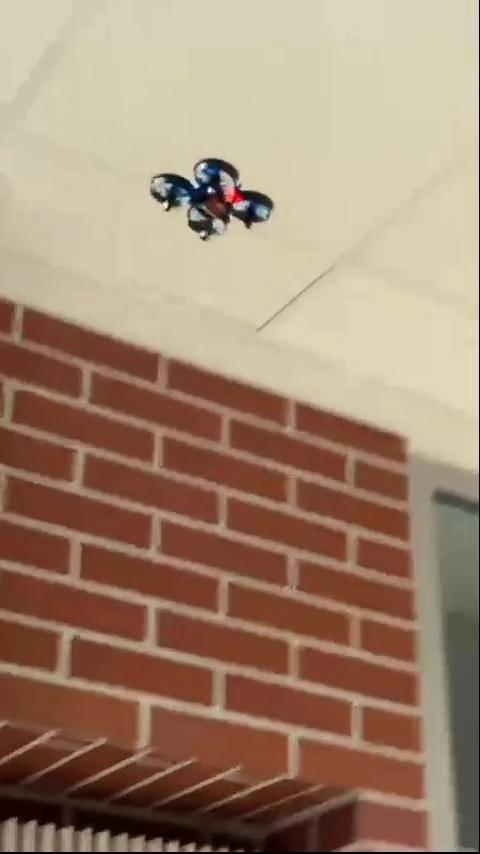drone: (147, 156, 274, 253)
